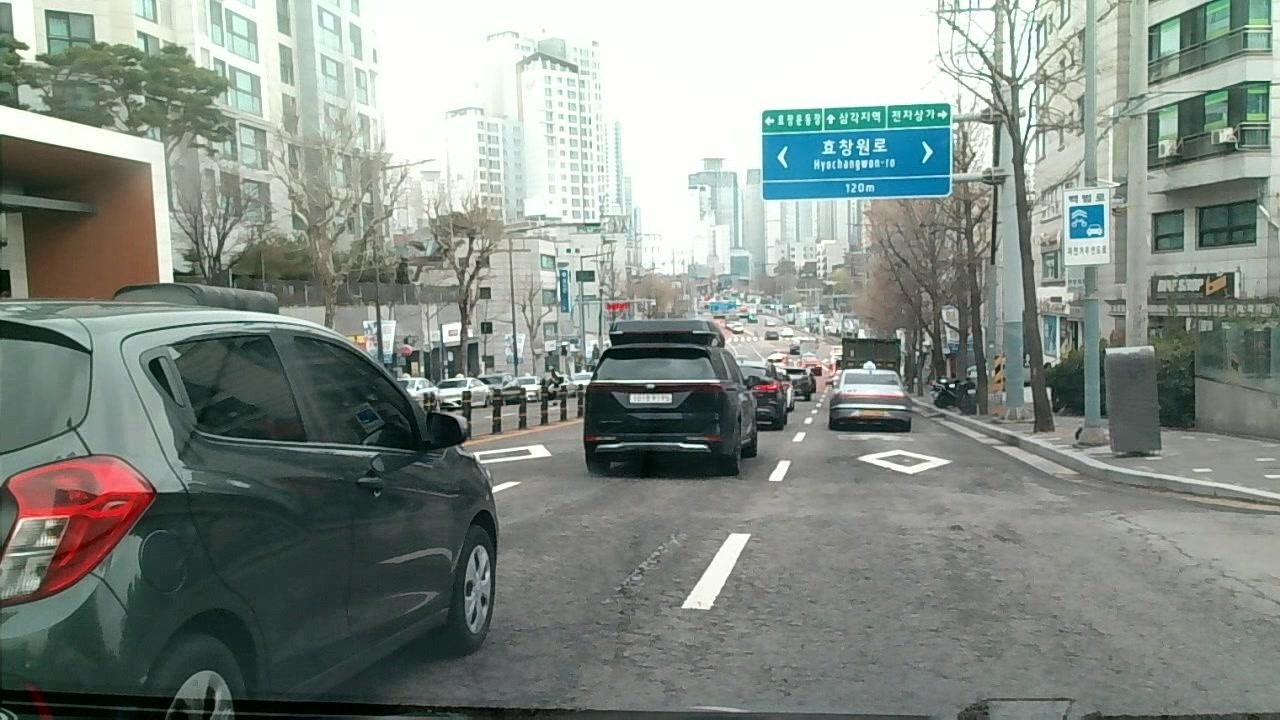banner: (519, 522, 1114, 705), (1129, 516, 1274, 599)
